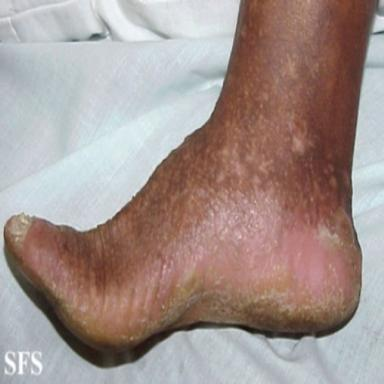Darier_s-Disease: (4, 206, 362, 345)
